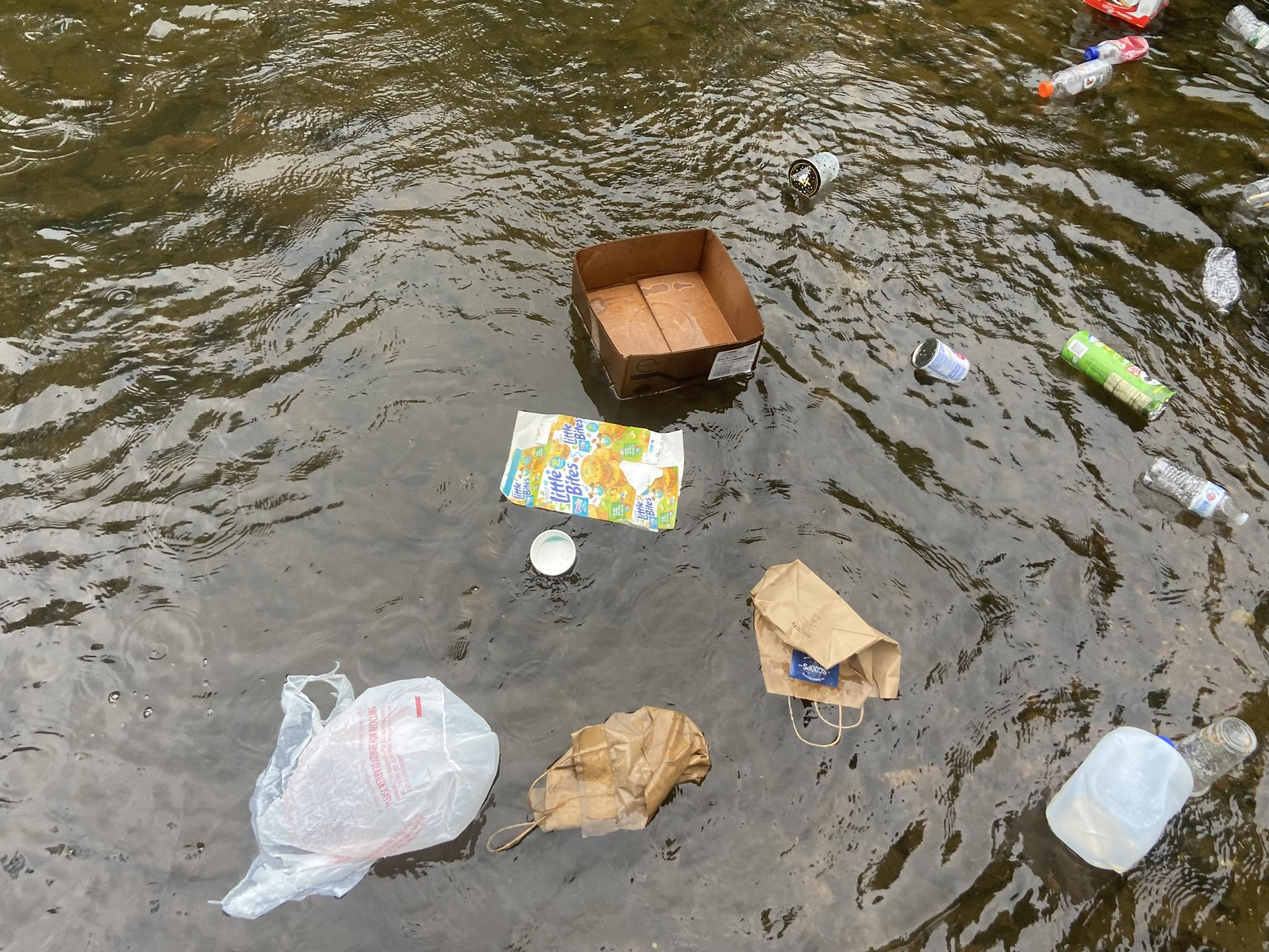cardboard: (490, 529, 721, 737), (566, 417, 781, 554), (91, 922, 196, 952)
metal: (86, 528, 209, 632), (293, 561, 362, 624)
paper: (553, 87, 784, 257), (359, 192, 520, 408), (684, 367, 752, 431)
plastic: (765, 25, 1064, 304), (67, 68, 241, 238), (4, 142, 117, 249), (7, 412, 131, 499), (20, 629, 76, 717), (151, 842, 237, 899), (420, 751, 492, 805), (114, 881, 196, 925)
